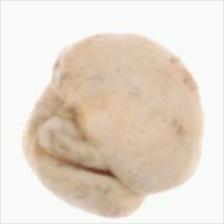L3: (33, 101, 116, 178)
L4: (23, 34, 204, 218)
